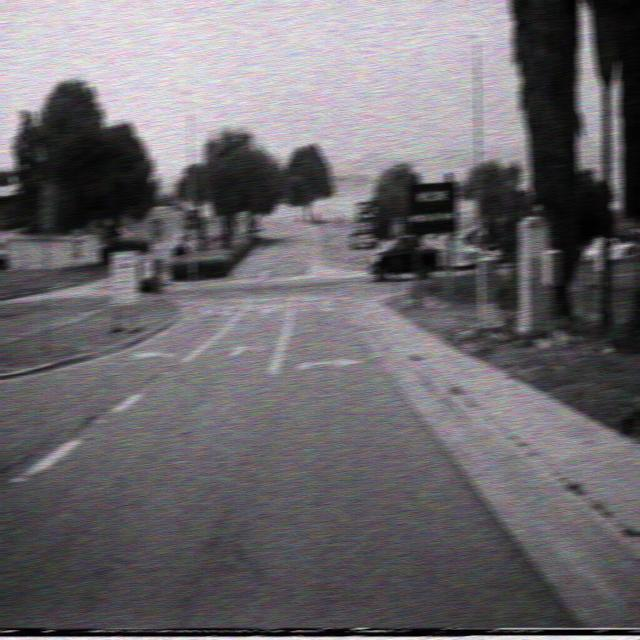stop: (390, 214, 402, 242), (149, 216, 163, 240)
